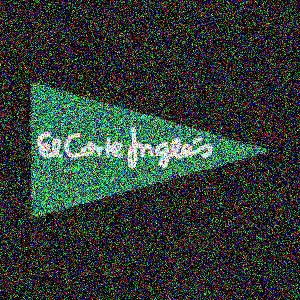corte_ingles: (261, 42, 291, 125)
